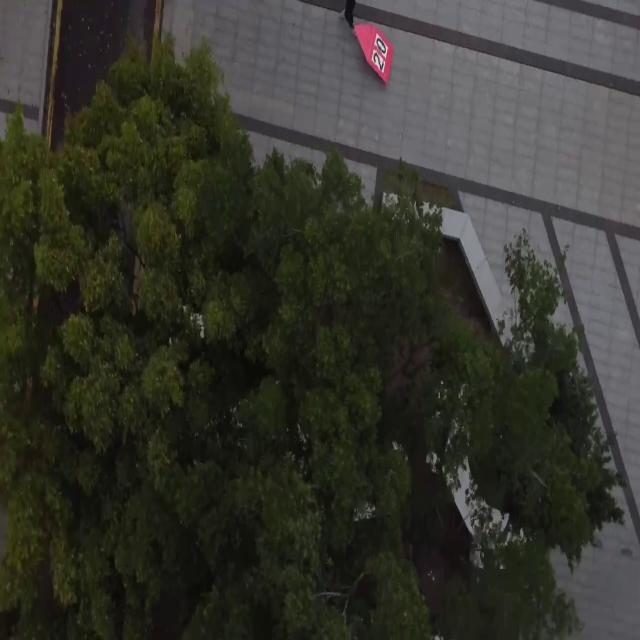-sign-: (352, 20, 393, 86)
